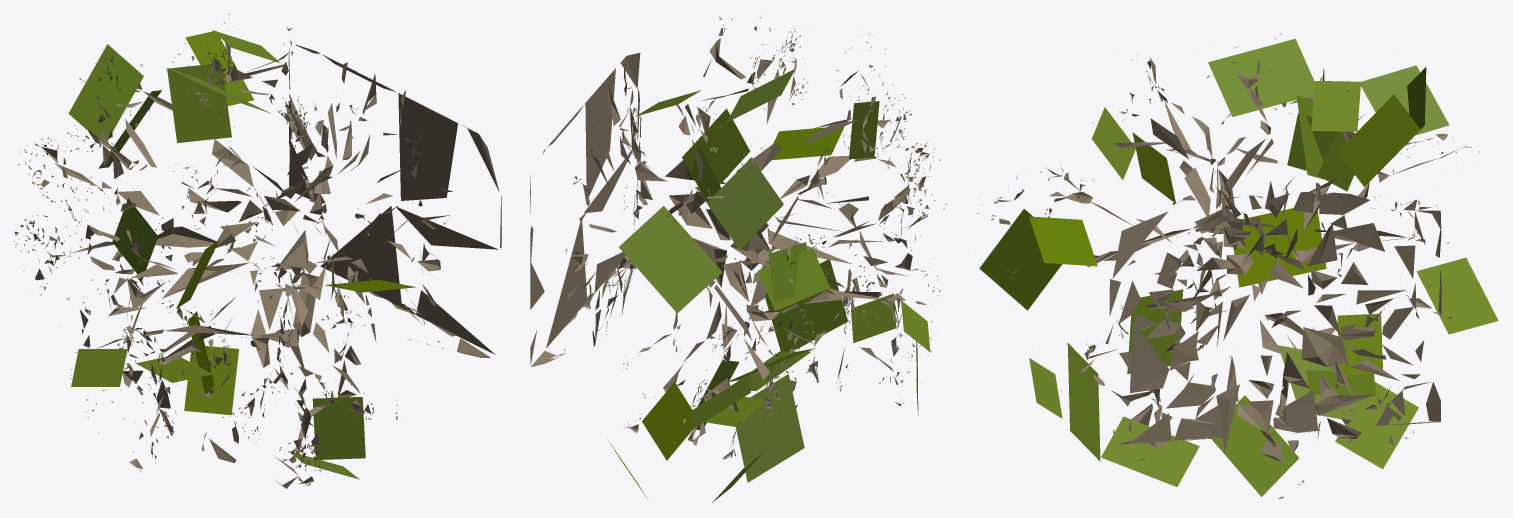
The model's file is tree_small_ancient_a.glb.
3 views of the same model, side by side, from view 1: azimuth 30°, elevation 25°; view 2: azimuth 150°, elevation 25°; view 3: azimuth 270°, elevation 25° (orthographic). The views are drawn at different scales.
Parts seen in each view (by area): view 1: wood, leaves; view 2: leaves, wood; view 3: leaves, wood.
Part boxes in pixels (x1,y1,x2,y2): wood: (14,14,501,488); leaves: (68,30,415,479); leaves: (609,68,930,502); wood: (530,14,946,459); leaves: (979,38,1498,496); wood: (977,33,1479,498).
Bounding box in the file's own units: 5.41 × 6.04 × 6.31.
